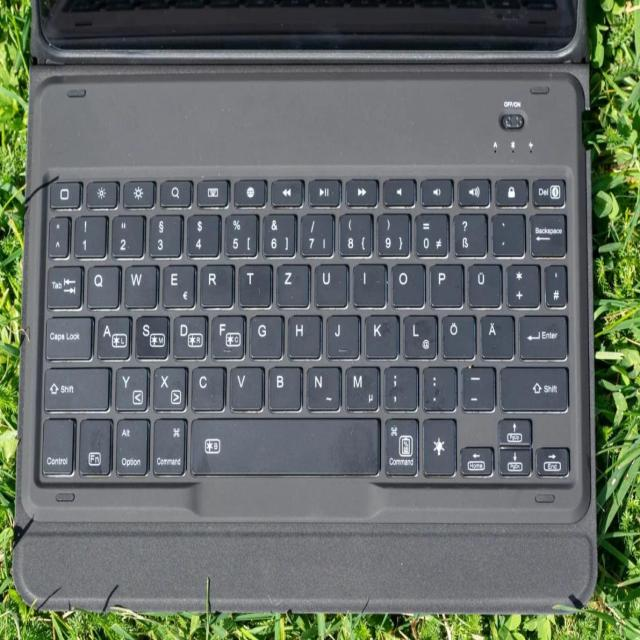0: (412, 208, 447, 255)
1: (72, 211, 105, 255)
2: (109, 211, 143, 255)
3: (146, 210, 181, 255)
4: (185, 209, 218, 254)
5: (222, 208, 256, 254)
6: (262, 211, 296, 256)
7: (299, 211, 334, 257)
8: (337, 208, 371, 254)
9: (374, 208, 409, 255)
a: (95, 310, 130, 358)
accent: (490, 209, 524, 254)
ae: (478, 310, 513, 357)
alt-left: (114, 414, 149, 475)
b: (264, 361, 300, 408)
c: (189, 362, 224, 408)
caret: (46, 212, 68, 255)
comma: (381, 361, 415, 408)
d: (171, 311, 206, 357)
del: (527, 208, 566, 255)
e: (159, 260, 194, 305)
enter: (517, 310, 567, 357)
f: (209, 310, 243, 357)
g: (247, 310, 281, 356)
h: (286, 310, 320, 356)
hash: (544, 259, 567, 306)
i: (351, 259, 385, 304)
j: (324, 310, 357, 356)
k: (363, 309, 397, 356)
keyboard: (30, 160, 579, 506)
l: (401, 310, 436, 357)
m: (342, 362, 377, 409)
minus: (458, 363, 494, 409)
n: (304, 362, 339, 408)
o: (388, 259, 423, 305)
oe: (439, 310, 473, 357)
p: (427, 259, 462, 305)
plus: (504, 259, 539, 305)
point: (420, 362, 455, 408)
q: (84, 261, 118, 306)
r: (198, 259, 232, 305)
s: (133, 311, 168, 358)
shift-left: (42, 362, 109, 409)
shift-lock: (42, 311, 91, 357)
shift-right: (499, 362, 569, 410)
space: (190, 412, 378, 474)
ss: (450, 208, 485, 255)
strg-left: (39, 412, 74, 477)
t: (236, 259, 269, 304)
tab: (45, 260, 81, 307)
u: (312, 259, 346, 305)
ue: (465, 259, 500, 305)
v: (227, 361, 262, 408)
w: (122, 260, 155, 306)
x: (151, 362, 185, 408)
y: (113, 363, 147, 409)
z: (273, 260, 308, 305)
